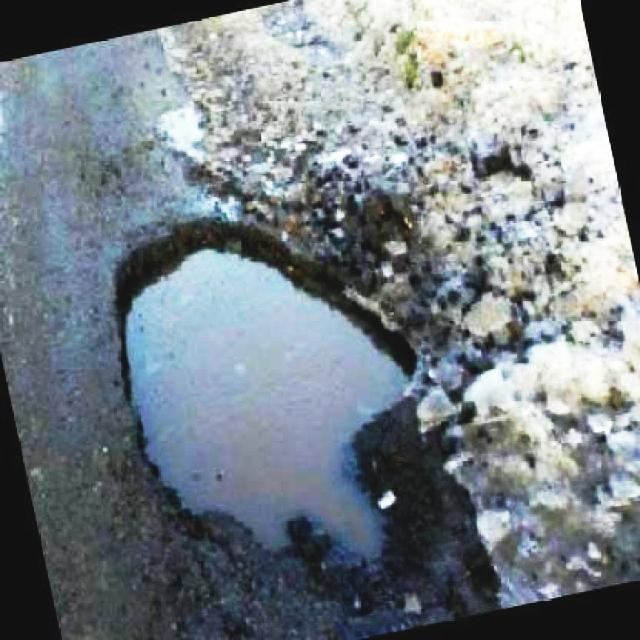pothole: (112, 205, 511, 632)
